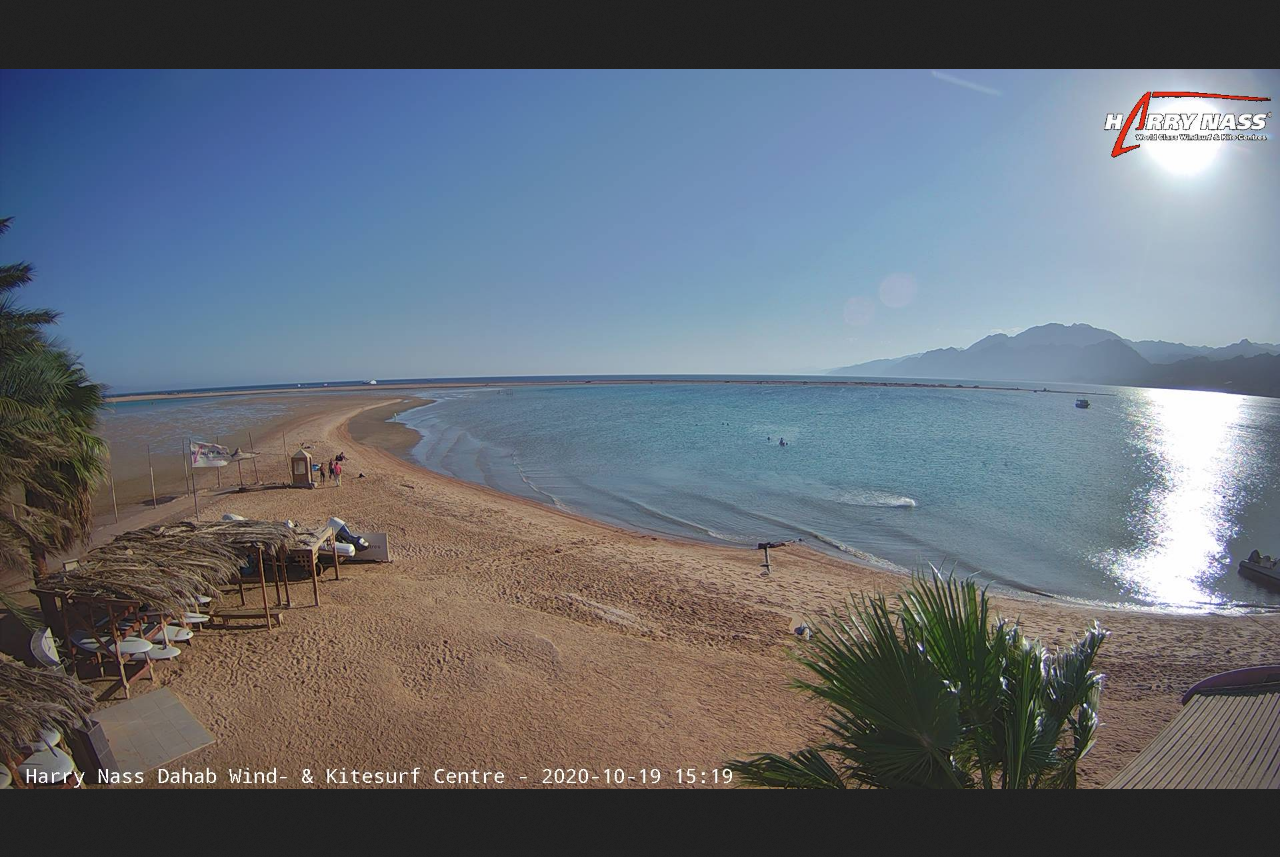yes: (187, 440, 236, 469)
